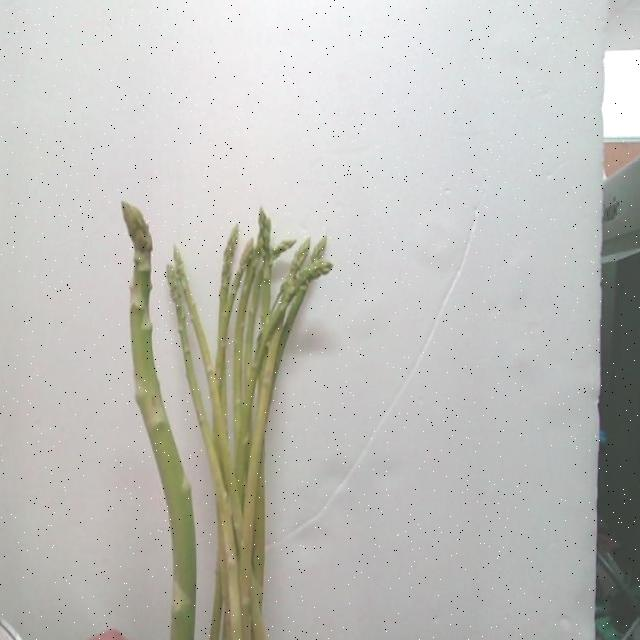aspargus: (119, 203, 197, 640)
